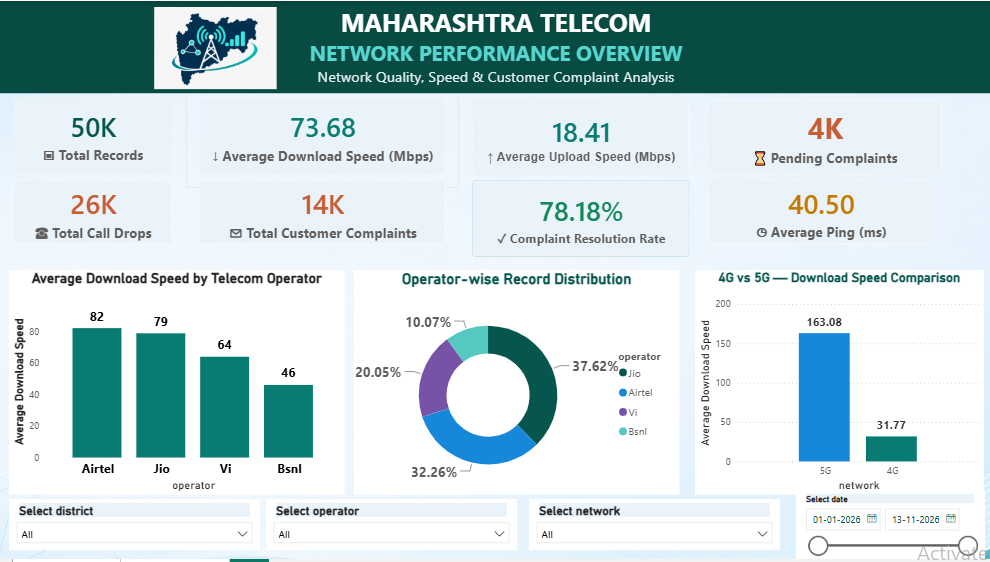

The dashboard page shown, as its layout file describes it:
{"tool":"powerbi","page":{"name":"Network Performance Overview","canvas":[1280,720],"ordinal":0},"visuals":[{"type":"cardVisual","fields":{"Data":["maharashtra_telecom.Total Records"]},"box":[0,107.7,239.5,133.2],"z":0},{"type":"cardVisual","fields":{"Data":["maharashtra_telecom.Average Download Speed"]},"box":[239.5,107.7,352.9,133.2],"z":1000},{"type":"cardVisual","fields":{"Data":["maharashtra_telecom.Average Upload Speed"]},"box":[592.4,109.1,314.6,133.2],"z":2000},{"type":"cardVisual","fields":{"Data":["maharashtra_telecom.Average Ping"]},"box":[897.1,214.3,324.6,117.6],"z":3000},{"type":"cardVisual","fields":{"Data":["maharashtra_telecom.Total Complaints"]},"box":[239.5,214,352.9,117.6],"z":4000},{"type":"cardVisual","fields":{"Data":["maharashtra_telecom.Total Call Drops"]},"box":[0,214,239.5,117.6],"z":5000},{"type":"cardVisual","fields":{"Data":["maharashtra_telecom.Complaint Resolution Rate"]},"box":[592.4,214,314.6,133.2],"z":6000},{"type":"cardVisual","fields":{"Data":["maharashtra_telecom.Pending Complaints"]},"box":[907.1,122.9,314.6,104.9],"z":7000},{"type":"textbox","box":[0,0,1280,118.6],"z":8000},{"type":"image","box":[151.4,7.1,254.3,105.7],"z":9000},{"type":"clusteredColumnChart","title":"Average Download Speed by Telecom Operator","fields":{"Category":["maharashtra_telecom.operator"],"Y":["maharashtra_telecom.Average Download Speed"]},"box":[11.4,347.1,432.9,290],"z":10000},{"type":"donutChart","title":"Operator-wise Record Distribution","fields":{"Category":["maharashtra_telecom.operator"],"Y":["maharashtra_telecom.Total Records"]},"box":[457.1,347.1,420,290],"z":11000},{"type":"clusteredColumnChart","title":"4G vs 5G — Download Speed Comparison","fields":{"Category":["maharashtra_telecom.network"],"Y":["maharashtra_telecom.Average Download Speed"]},"box":[897.1,347.1,372.9,290],"z":12000},{"type":"slicer","fields":{"Values":["maharashtra_telecom.operator"]},"box":[342.9,642.9,324.3,65.7],"z":13000},{"type":"slicer","fields":{"Values":["maharashtra_telecom.network"]},"box":[682.9,642.9,324.3,65.7],"z":14000},{"type":"slicer","fields":{"Values":["maharashtra_telecom.district"]},"box":[11.4,642.9,324.3,65.7],"z":15000},{"type":"slicer","fields":{"Values":["maharashtra_telecom.date"]},"box":[1027.1,631.4,242.9,88.6],"z":16000}]}

Visuals, with their boxes in screenshot pixels (x1, y1, x2, y2), scaled from the page's 1280x720 canvas onto the 990x562 screenshot:
cardVisual - maharashtra_telecom.Total Records: 0 84 185 188
cardVisual - maharashtra_telecom.Average Download Speed: 185 84 458 188
cardVisual - maharashtra_telecom.Average Upload Speed: 458 85 702 189
cardVisual - maharashtra_telecom.Average Ping: 694 167 945 259
cardVisual - maharashtra_telecom.Total Complaints: 185 167 458 259
cardVisual - maharashtra_telecom.Total Call Drops: 0 167 185 259
cardVisual - maharashtra_telecom.Complaint Resolution Rate: 458 167 702 271
cardVisual - maharashtra_telecom.Pending Complaints: 702 96 945 178
textbox: 0 0 989 93
image: 117 6 314 88
"Average Download Speed by Telecom Operator" clusteredColumnChart: 9 271 344 497
"Operator-wise Record Distribution" donutChart: 354 271 678 497
"4G vs 5G — Download Speed Comparison" clusteredColumnChart: 694 271 982 497
slicer - maharashtra_telecom.operator: 265 502 516 553
slicer - maharashtra_telecom.network: 528 502 779 553
slicer - maharashtra_telecom.district: 9 502 260 553
slicer - maharashtra_telecom.date: 794 493 982 561
